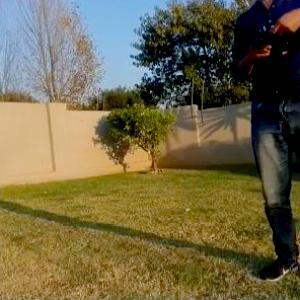follow: (230, 0, 299, 287)
